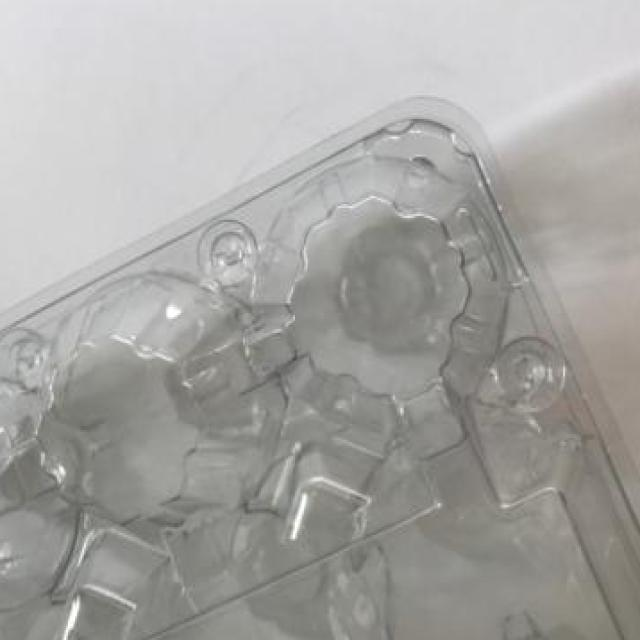organic: (7, 83, 631, 632)
